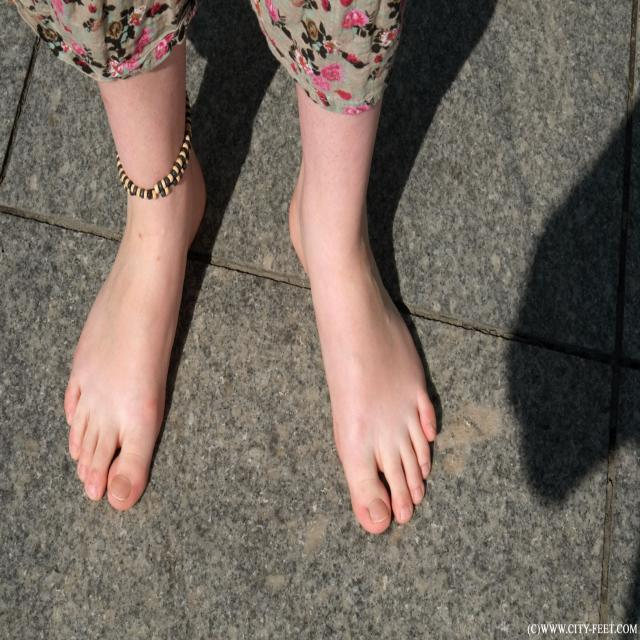Barefoots: (288, 163, 437, 534), (64, 141, 207, 512)
